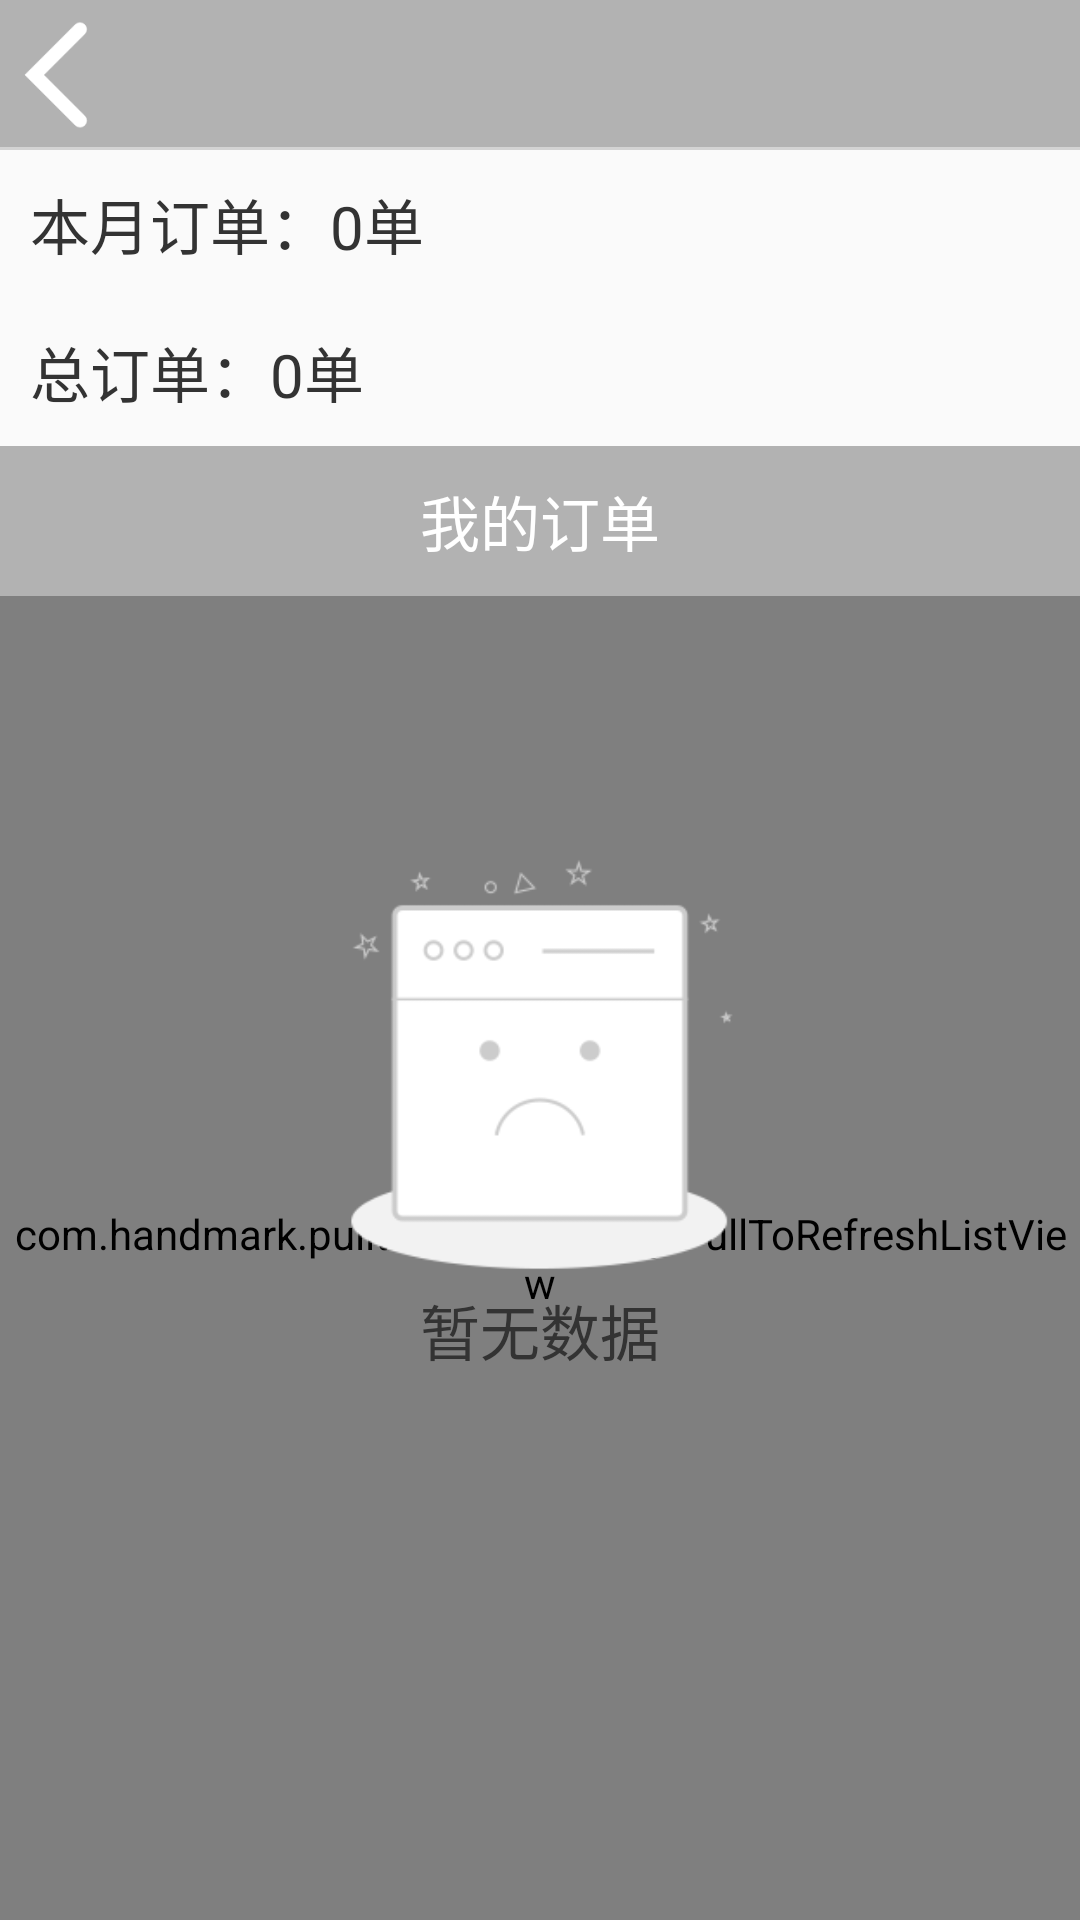

Where icons sit on this 1080w x 1920h app screen, as [left=x1, top=y1, right=x2, bottom=y2]:
left: [left=25, top=22, right=87, bottom=128]
